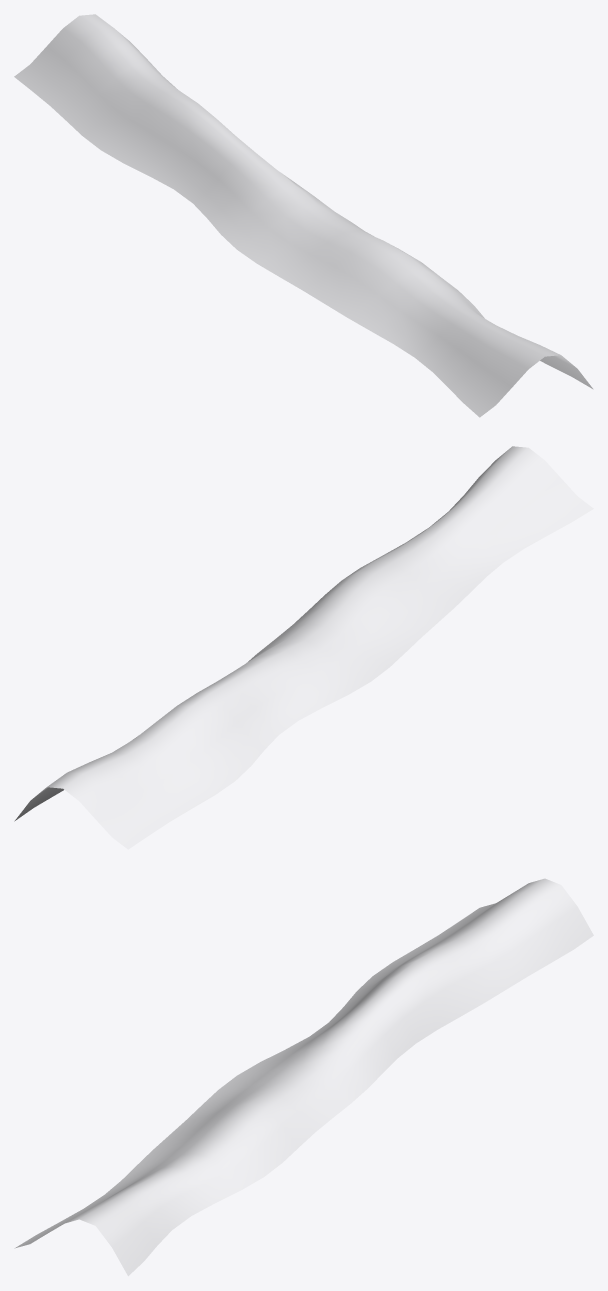
The model's file is SKI_PROP_SnowBank-Bd9ApRqY.glb.
3 views of the same model, one above another, from view 1: azimuth 30°, elevation 25°; view 2: azimuth 150°, elevation 25°; view 3: azimuth 330°, elevation 25° (orthographic).
Visible parts, largest first — view 1: SKI_PROP_SnowBank; view 2: SKI_PROP_SnowBank; view 3: SKI_PROP_SnowBank.
Boxes of the visible parts, x1,y1,x2,y2 form: SKI_PROP_SnowBank: [14, 14, 593, 417]; SKI_PROP_SnowBank: [14, 446, 593, 849]; SKI_PROP_SnowBank: [14, 878, 593, 1276].
Size of the model in its own units: 3.09 by 1.08 by 20.
Materials: 1 (1 with a texture image).
